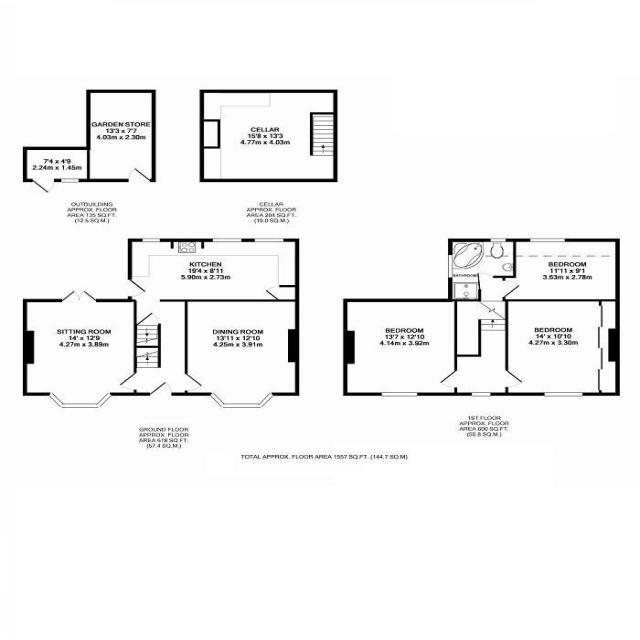DOOR: (505, 369, 524, 388), (118, 372, 137, 391), (149, 381, 173, 396), (184, 373, 204, 391), (127, 279, 147, 297), (502, 280, 521, 298), (438, 370, 457, 388)
DOUBLE DOOR: (61, 290, 97, 302)
ROOM: (23, 290, 137, 408), (184, 299, 300, 409), (343, 298, 458, 396), (505, 299, 620, 396), (128, 238, 300, 302), (503, 238, 620, 302)
WINDOW: (209, 392, 275, 409), (48, 391, 114, 408), (543, 392, 584, 397), (528, 238, 566, 243), (381, 392, 417, 397), (212, 238, 243, 243), (447, 254, 453, 279), (254, 238, 284, 242), (471, 392, 491, 397), (490, 238, 506, 243), (141, 238, 160, 242)
